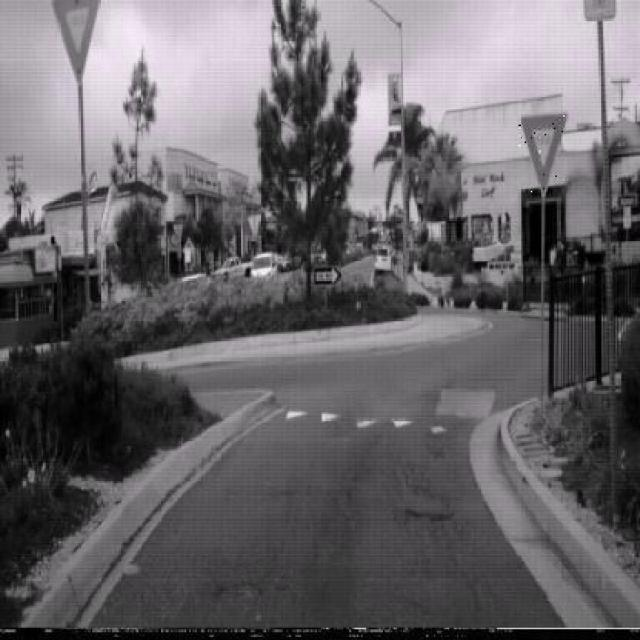yield: (518, 111, 569, 197)
